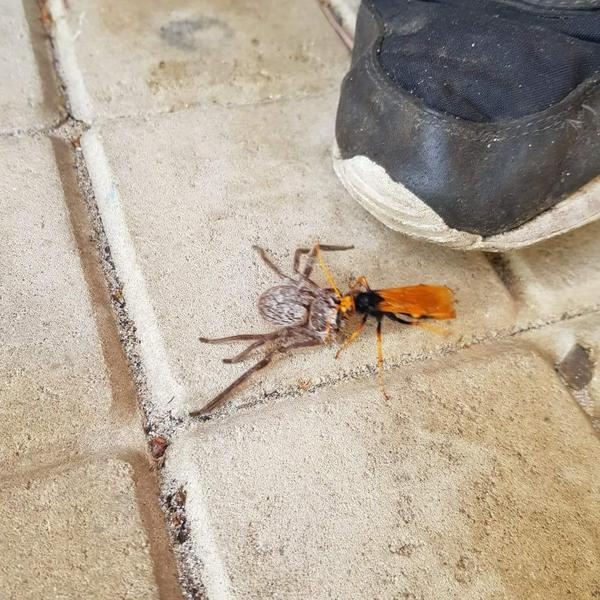Huntsman Spider: (184, 239, 364, 411)
